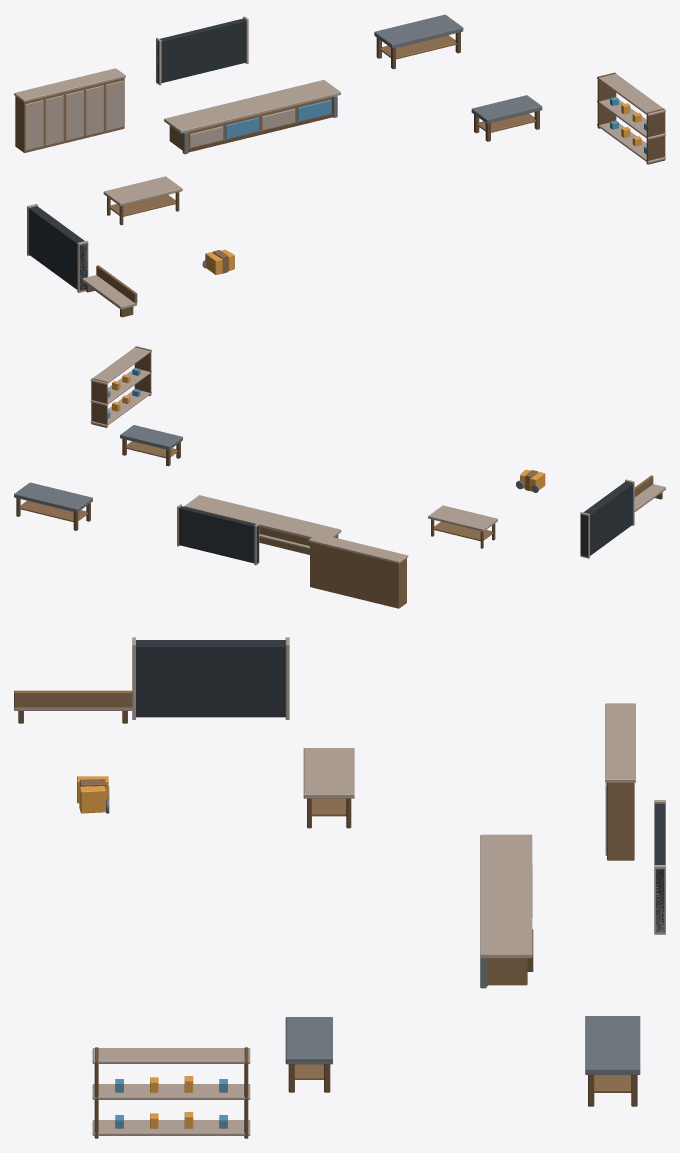
File: hingehall_repair_shop.lod1.glb
The picture shows the model from 3 angles, top to bottom: view 1: azimuth 30°, elevation 25°; view 2: azimuth 150°, elevation 25°; view 3: azimuth 270°, elevation 25°; orthographic projection. The views are drawn at different scales.
Bounding box in the file's own units: 25.72 × 2.82 × 16.55.
